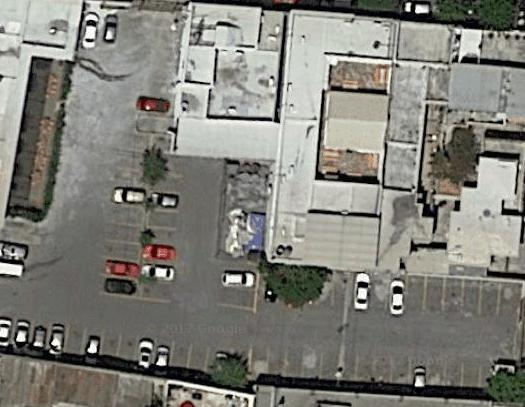parkingspot: (7, 318, 254, 396), (264, 346, 482, 400), (331, 270, 525, 319), (97, 151, 148, 299), (138, 154, 187, 304), (74, 6, 123, 55), (219, 266, 261, 313), (130, 130, 173, 154), (134, 94, 176, 118)
